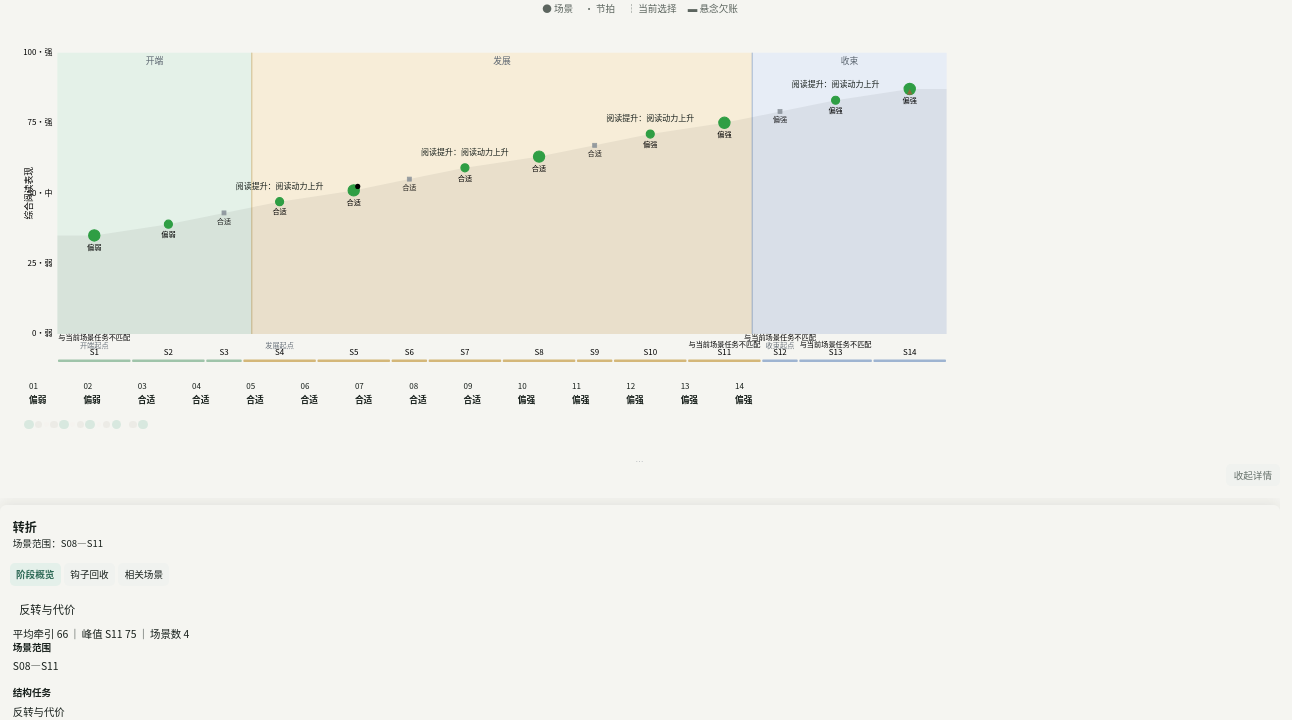
Phase 1C-C.2.5.2 Context Inspector › exposes three Phase detail tabs, 阅读阻力 no longer among them
The image size is (1292, 720).
(page scrolled)
Expected: the tab with test id "phase-detail-tab-overview" is shown, [10,564,61,586]
Expected: the tab with test id "phase-detail-tab-scenes" is shown, [118,564,170,586]
Click the tab with test id "phase-detail-tab-questions" at (90, 575), box [64,564,115,586]
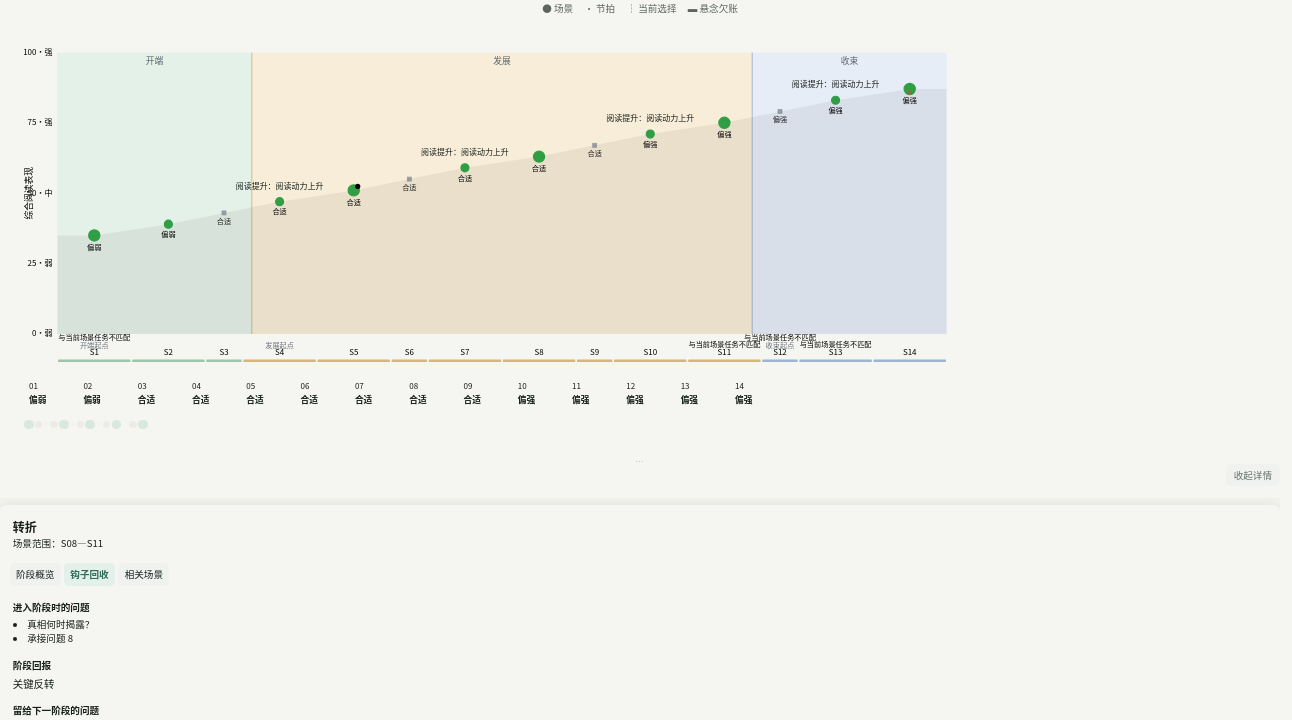
Now the element with test id "phase-detail-panel-questions" is shown, box [13,600,99,719]
Click the tab with test id "phase-detail-tab-scenes" at (144, 575), box [118,564,170,586]
(page scrolled)
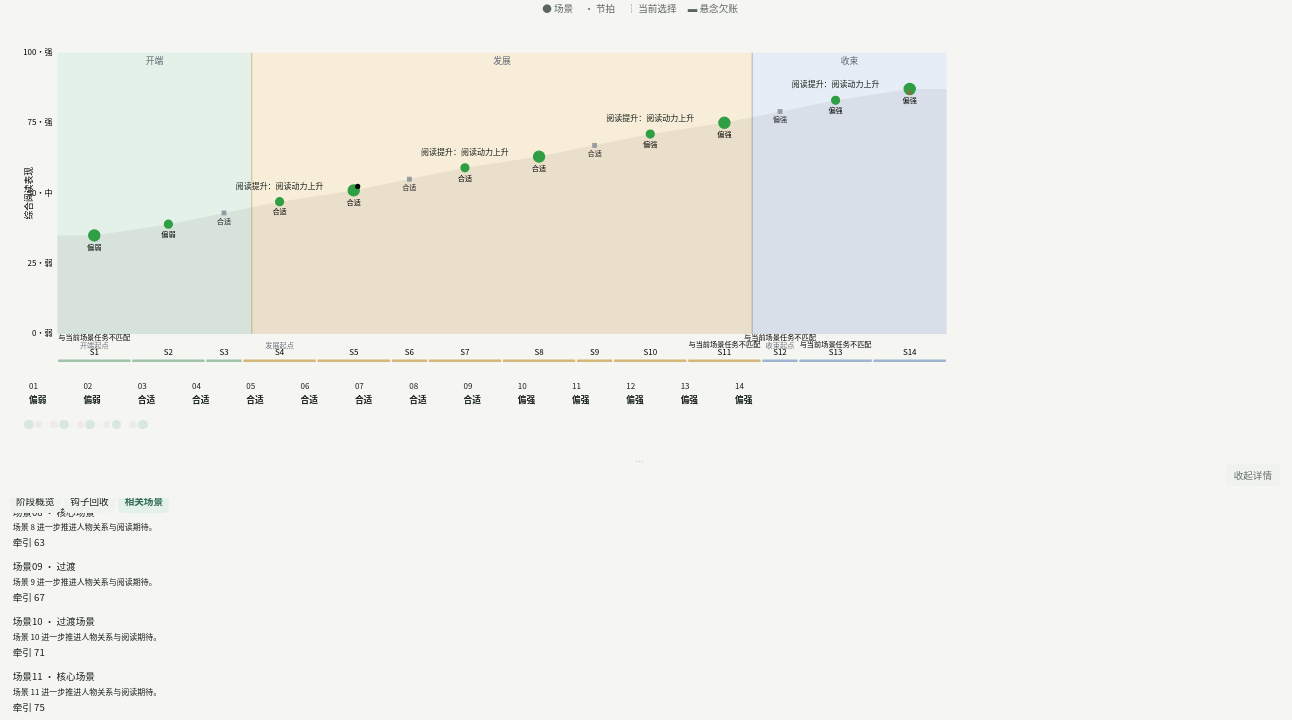
Now the element with test id "phase-detail-panel-scenes" is shown, box [13,500,582,719]
